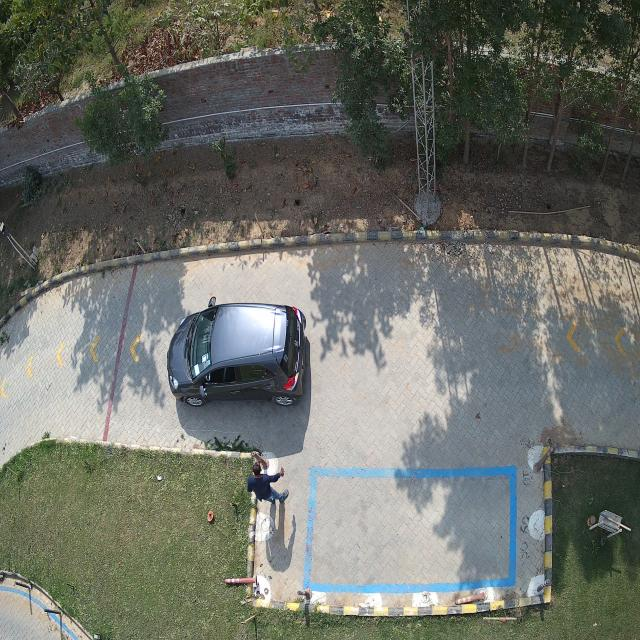car: (168, 300, 306, 407)
